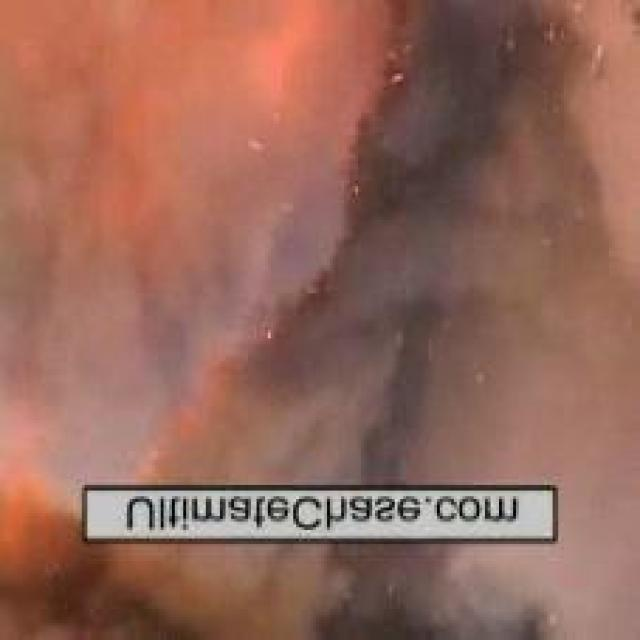smoke: (48, 30, 622, 594)
